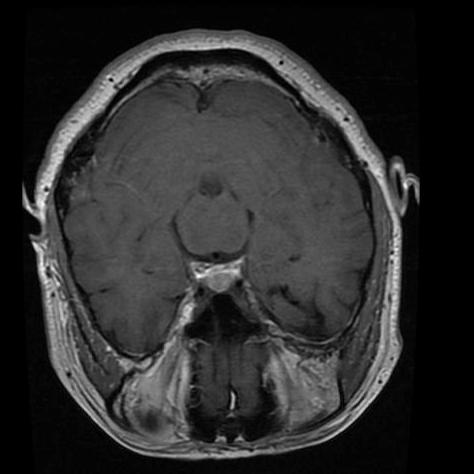Tumour-Pituitary: (189, 252, 255, 300)
